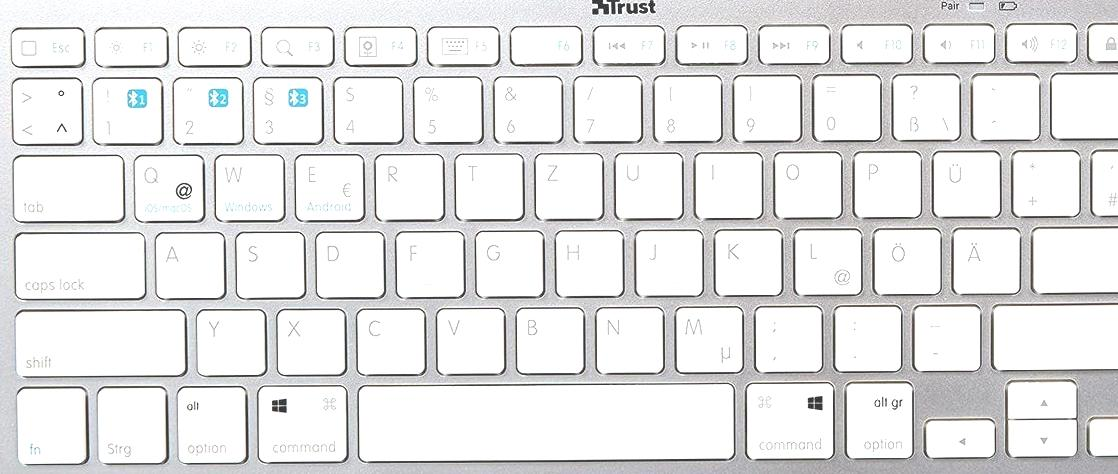0: (807, 69, 880, 140)
1: (89, 73, 163, 143)
2: (171, 72, 245, 143)
3: (249, 72, 323, 143)
4: (330, 72, 402, 142)
5: (408, 71, 480, 141)
6: (488, 71, 561, 141)
7: (569, 71, 641, 141)
8: (648, 70, 720, 140)
9: (727, 70, 800, 140)
a: (150, 227, 224, 297)
accent: (967, 68, 1038, 138)
ae: (946, 223, 1018, 292)
alt-left: (172, 382, 248, 463)
altgr-right: (842, 376, 914, 458)
b: (509, 301, 583, 372)
c: (350, 303, 424, 373)
caret: (7, 72, 82, 143)
comma: (749, 300, 821, 370)
d: (309, 226, 382, 296)
del: (1047, 67, 1118, 138)
e: (289, 149, 364, 220)
enter: (1026, 222, 1118, 291)
f: (390, 226, 462, 296)
g: (469, 225, 541, 295)
h: (549, 225, 621, 294)
hash: (1087, 145, 1118, 215)
i: (689, 147, 760, 217)
j: (630, 224, 700, 295)
k: (709, 223, 780, 294)
keyboard: (1, 1, 1118, 474)
l: (789, 224, 861, 294)
less: (7, 73, 82, 144)
m: (668, 300, 742, 372)
minus: (907, 301, 979, 369)
n: (589, 301, 661, 371)
o: (768, 147, 839, 217)
oe: (868, 223, 939, 293)
p: (847, 146, 919, 215)
plus: (1007, 145, 1078, 215)
point: (829, 301, 902, 369)
q: (128, 149, 205, 221)
r: (370, 148, 443, 219)
s: (230, 227, 304, 297)
shift-left: (12, 303, 187, 376)
shift-lock: (10, 226, 144, 298)
shift-right: (986, 298, 1118, 369)
space: (353, 378, 734, 461)
ss: (886, 69, 959, 139)
strg-left: (92, 383, 169, 464)
t: (450, 148, 522, 218)
tab: (9, 149, 123, 220)
u: (609, 147, 681, 218)
ue: (926, 145, 999, 216)
v: (430, 302, 503, 372)
w: (209, 147, 283, 220)
x: (271, 303, 344, 373)
y: (193, 304, 267, 374)
z: (530, 147, 601, 218)
